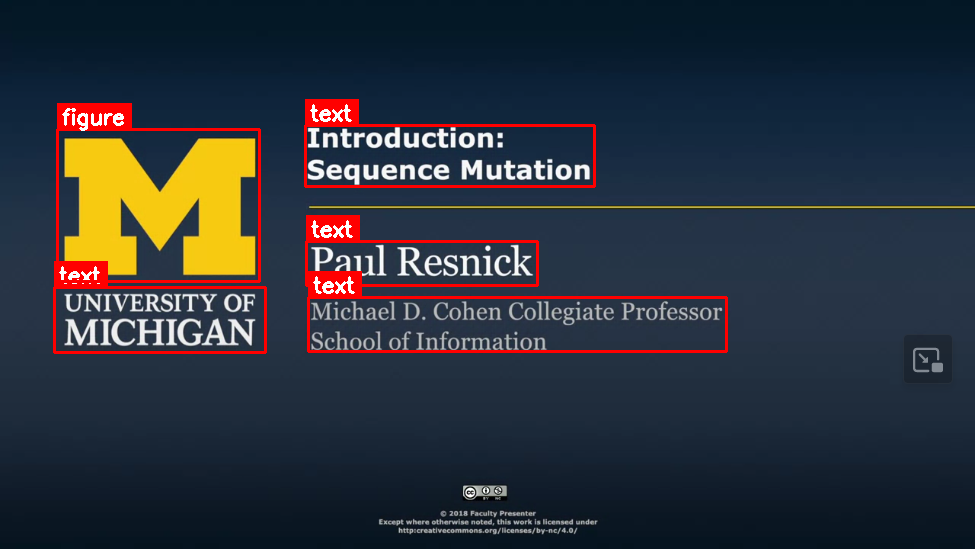figure: (57, 129, 259, 281)
text: (308, 297, 726, 351), (305, 125, 594, 186), (54, 287, 265, 352), (306, 241, 537, 285)
